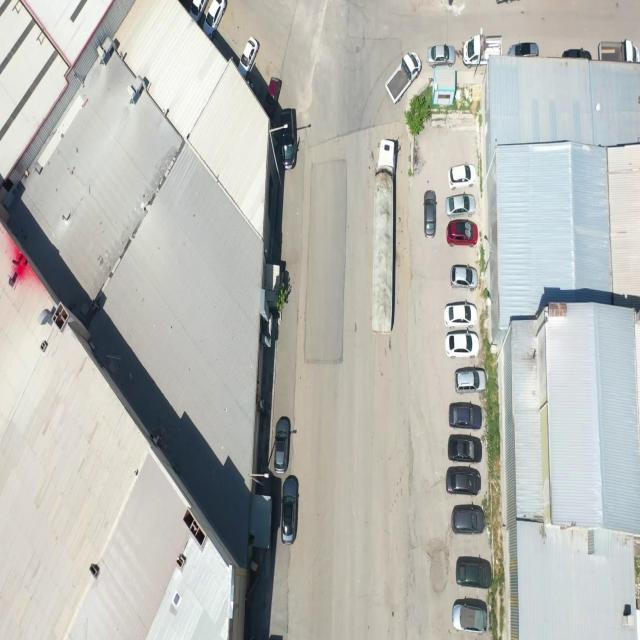p3rson: (251, 81, 254, 92)
